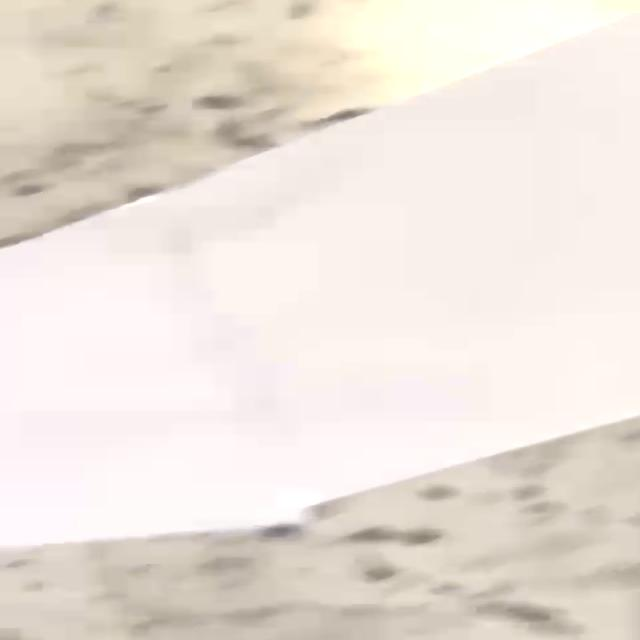road: (0, 12, 640, 549)
